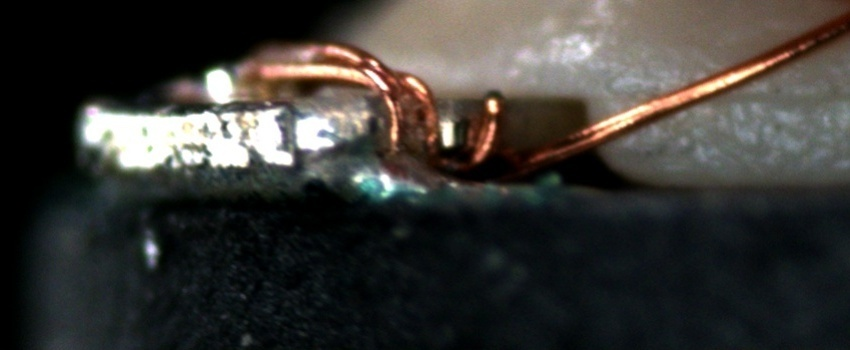DL: (648, 63, 849, 127)
TE: (239, 33, 513, 189)
